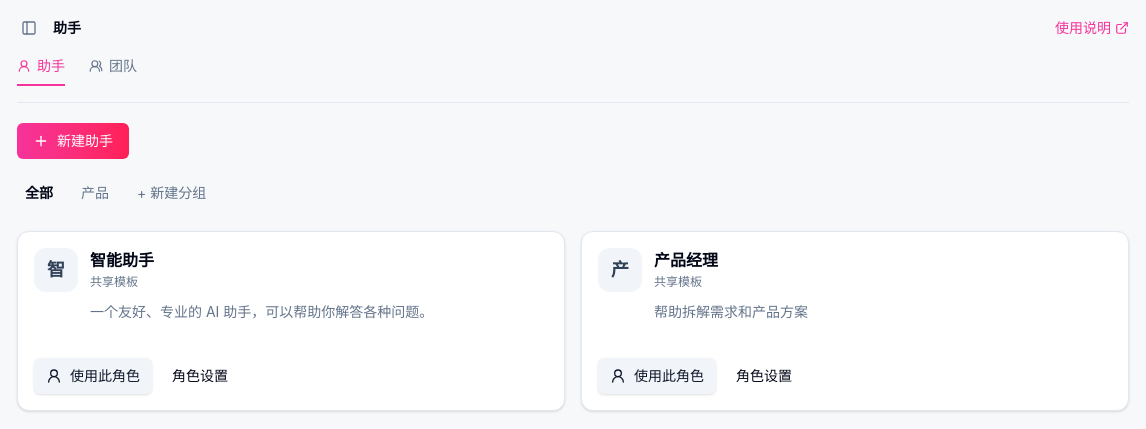
Test: CharactersPage › uses the shared page header sidebar toggle like the new session route
Expected: the heading "助手" is shown, [53, 18, 81, 38]
Click the button named "收起侧边栏". click: (29, 28)
box: [17, 16, 41, 40]
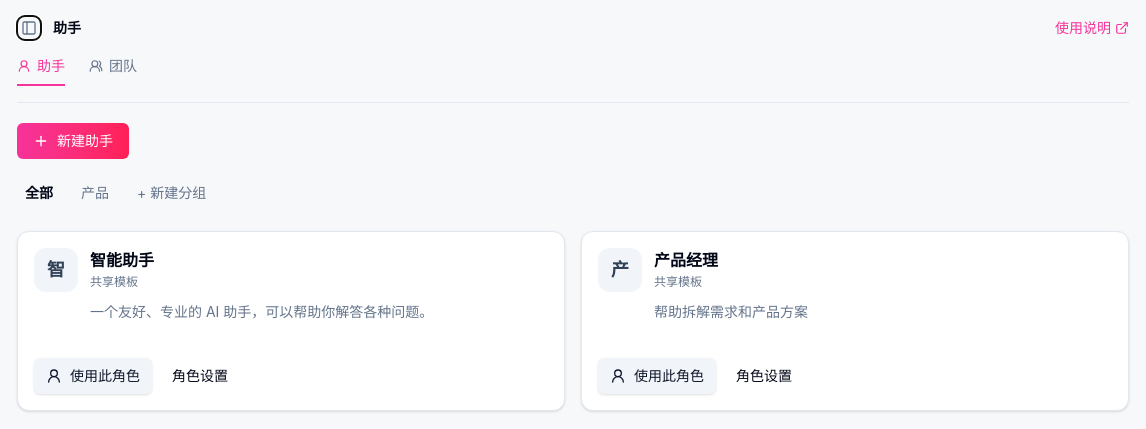
Expected: the button named "展开侧边栏" is shown, [17, 16, 41, 40]
